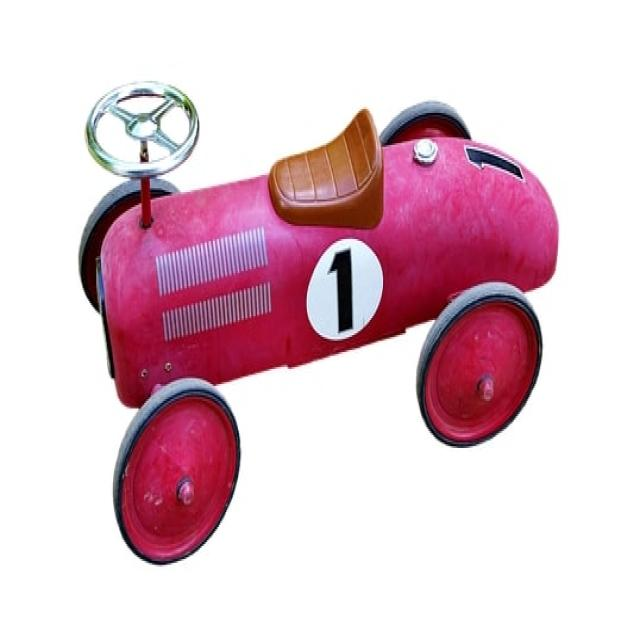Car: (77, 79, 559, 565)
